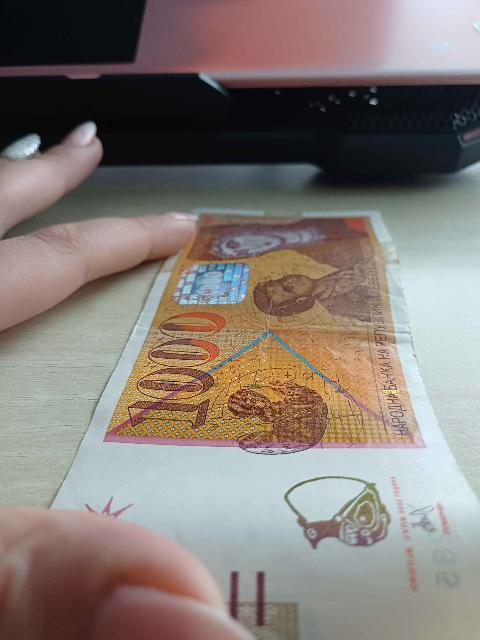1000_note: (48, 193, 479, 639)
